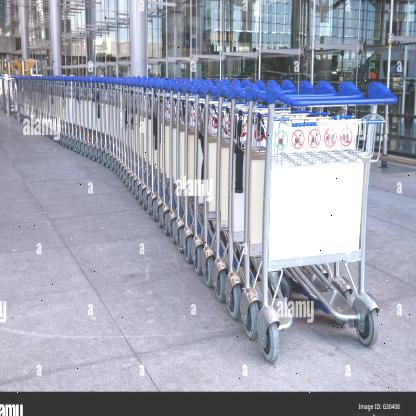airport-trolley: (254, 78, 400, 362), (240, 76, 366, 342), (228, 80, 338, 320), (211, 80, 316, 303), (203, 76, 298, 288), (191, 79, 265, 278), (163, 76, 193, 261), (142, 74, 162, 225), (127, 75, 141, 202), (111, 74, 126, 183)
